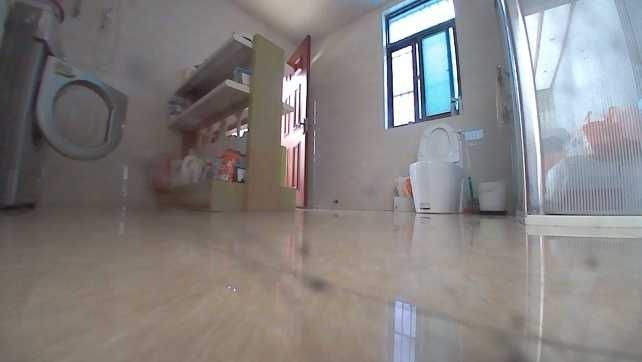door_anno: (280, 34, 310, 210)
toilet: (407, 120, 468, 214)
trash_can: (476, 178, 509, 217)
washing_machine1: (1, 0, 130, 209)
